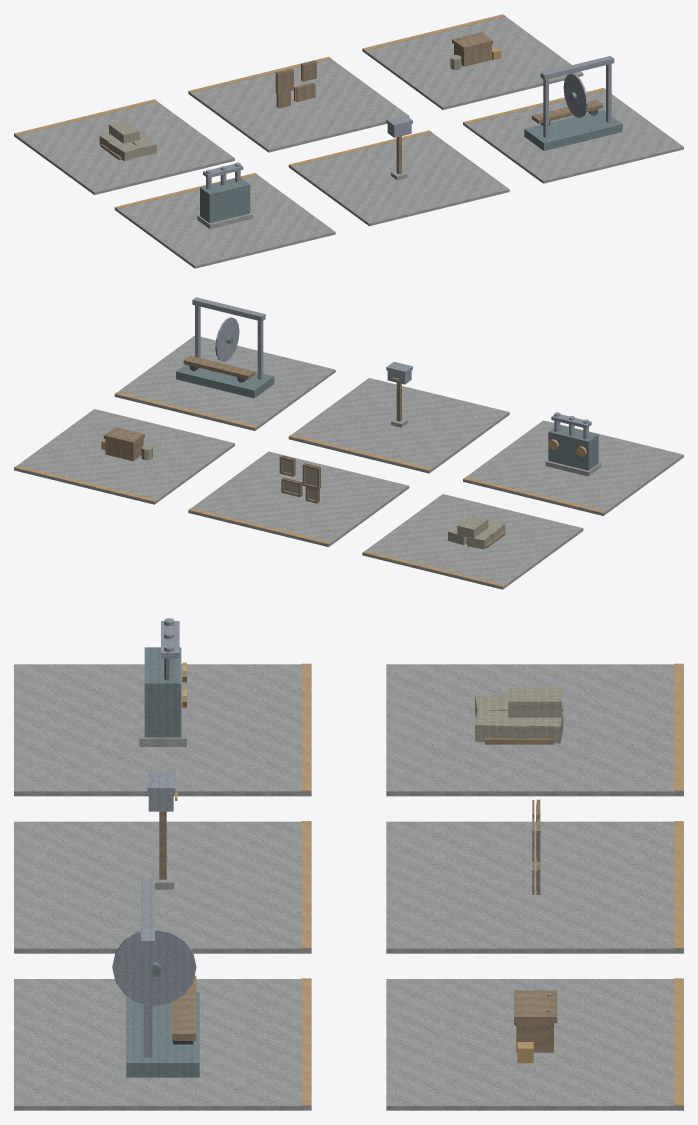
The model's file is level_blockout_kit_farmhouse_p02.glb.
The picture shows the model from 3 angles, top to bottom: view 1: azimuth 30°, elevation 25°; view 2: azimuth 150°, elevation 25°; view 3: azimuth 270°, elevation 25°; orthographic projection. The views are drawn at different scales.
Parts seen in each view (by area): view 1: level_blockout_kit_farmhouse_p02; view 2: level_blockout_kit_farmhouse_p02; view 3: level_blockout_kit_farmhouse_p02.
Part boxes in pixels (x1=…): level_blockout_kit_farmhouse_p02: x1=14, y1=14, x2=683, y2=268; level_blockout_kit_farmhouse_p02: x1=14, y1=297, x2=683, y2=589; level_blockout_kit_farmhouse_p02: x1=14, y1=618, x2=683, y2=1110.
Size of the model in its own units: 19.65 by 2.86 by 12.6.
7 materials, 7 textured.
